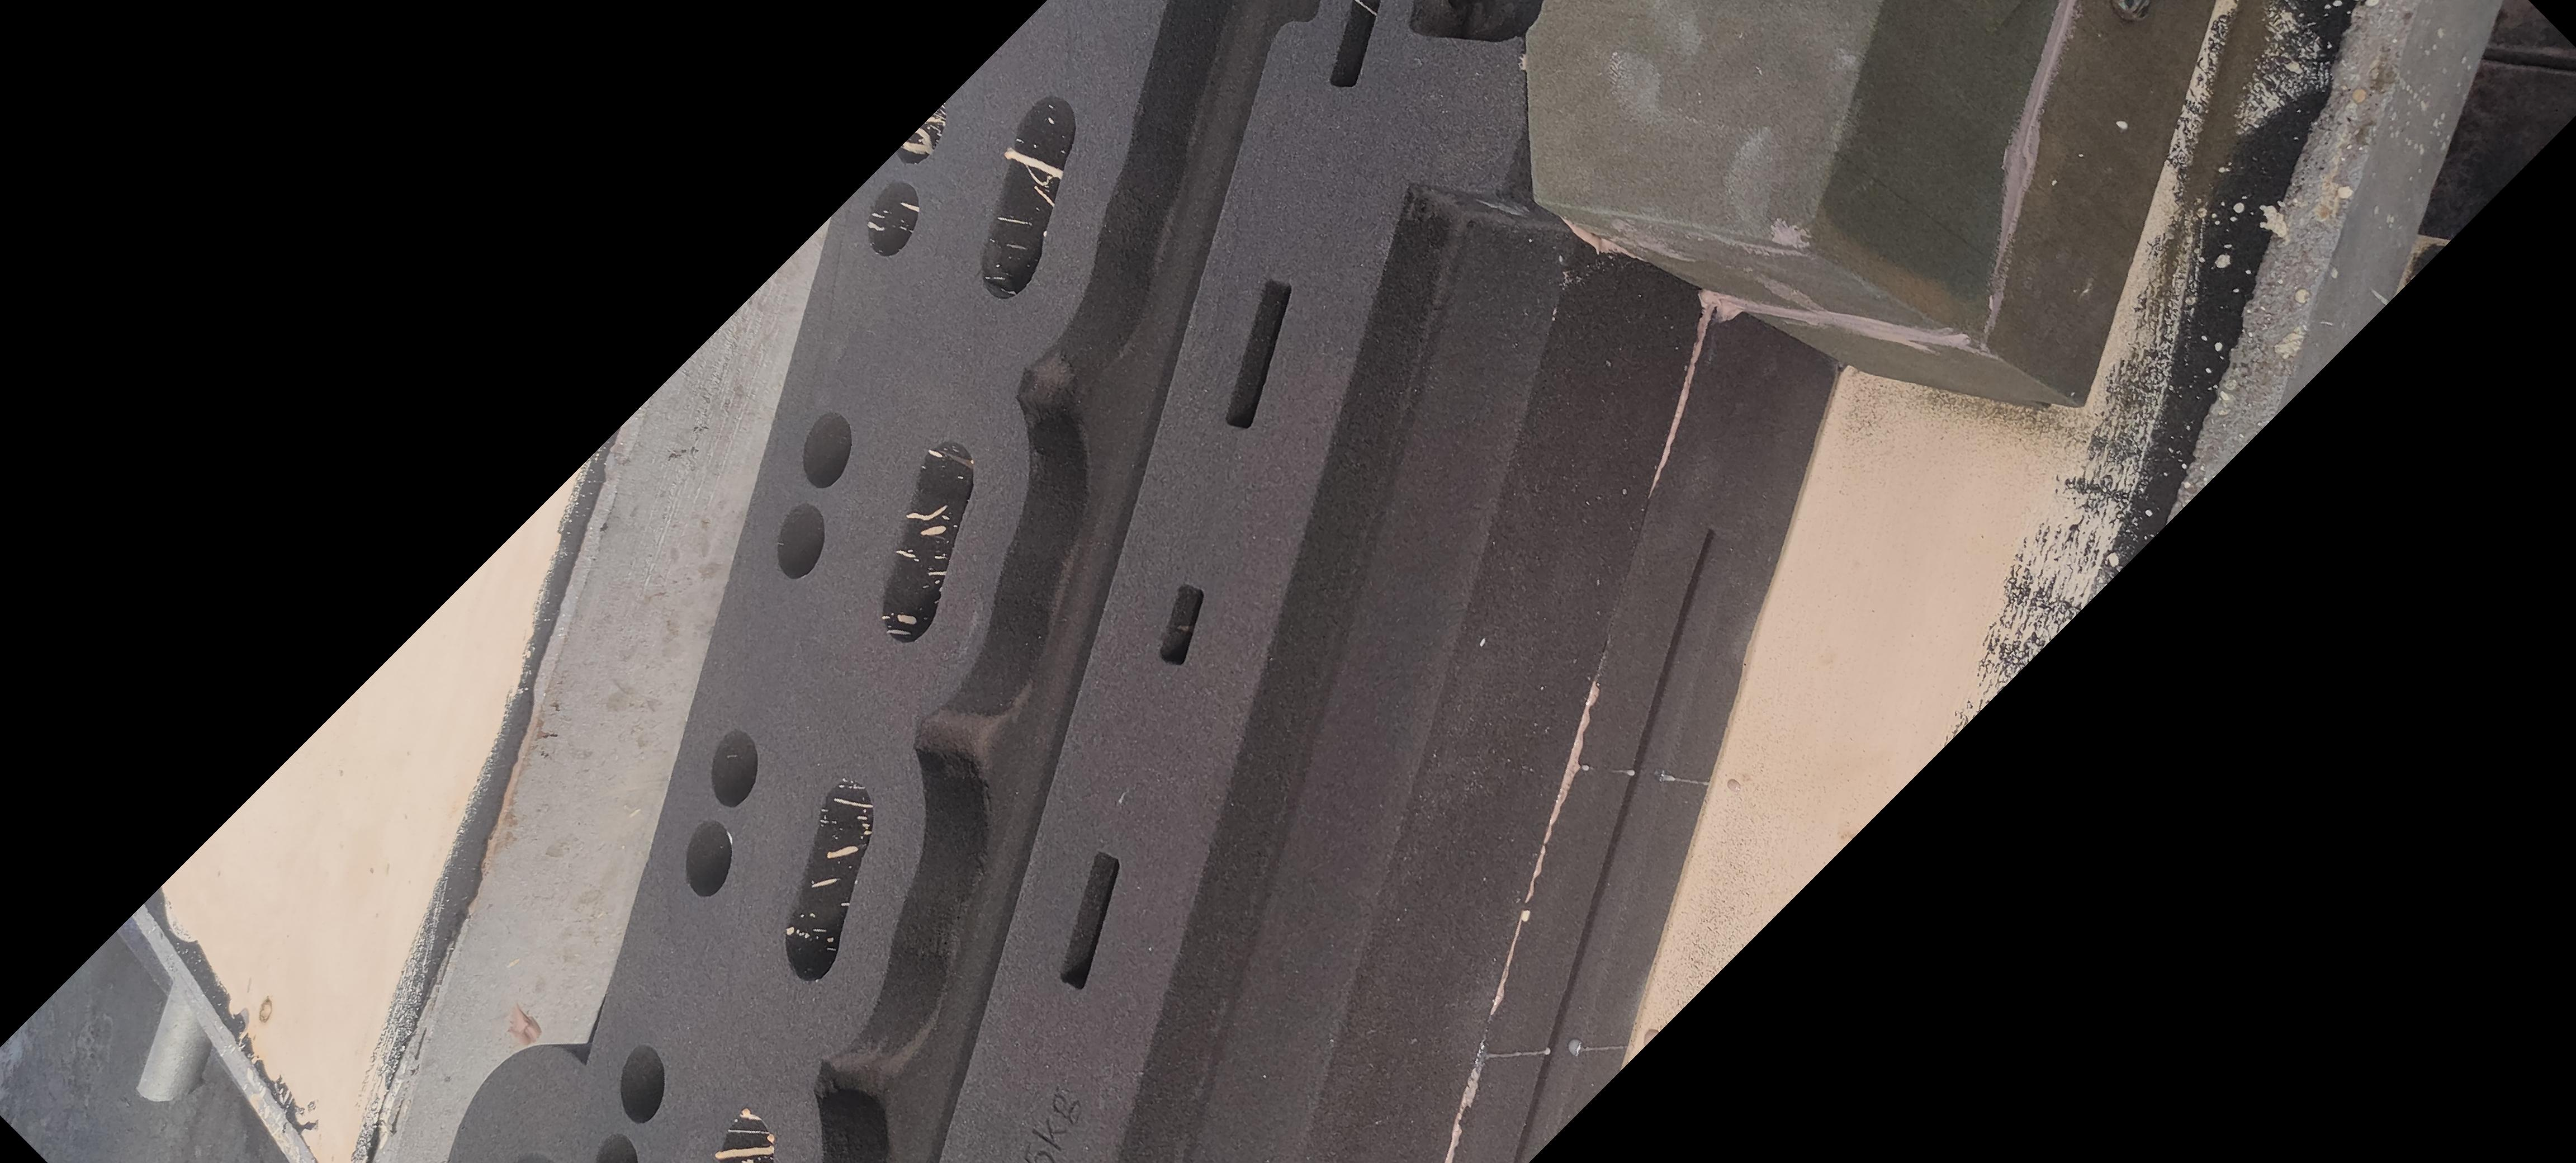pouring hole: (503, 1150, 554, 1163)
